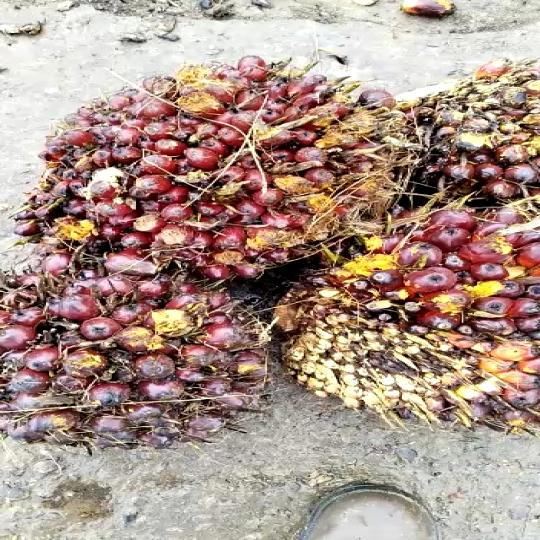masak: (14, 56, 392, 266), (284, 212, 540, 444), (0, 262, 276, 468)
